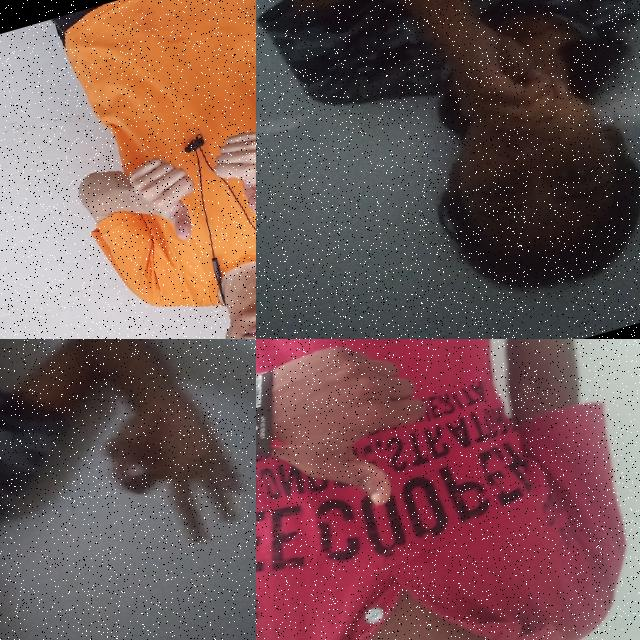Fist Mouth: (365, 0, 640, 304)
Okay: (80, 362, 256, 580)
Thumbs Up: (256, 339, 453, 543), (119, 142, 210, 255), (199, 118, 256, 226)
